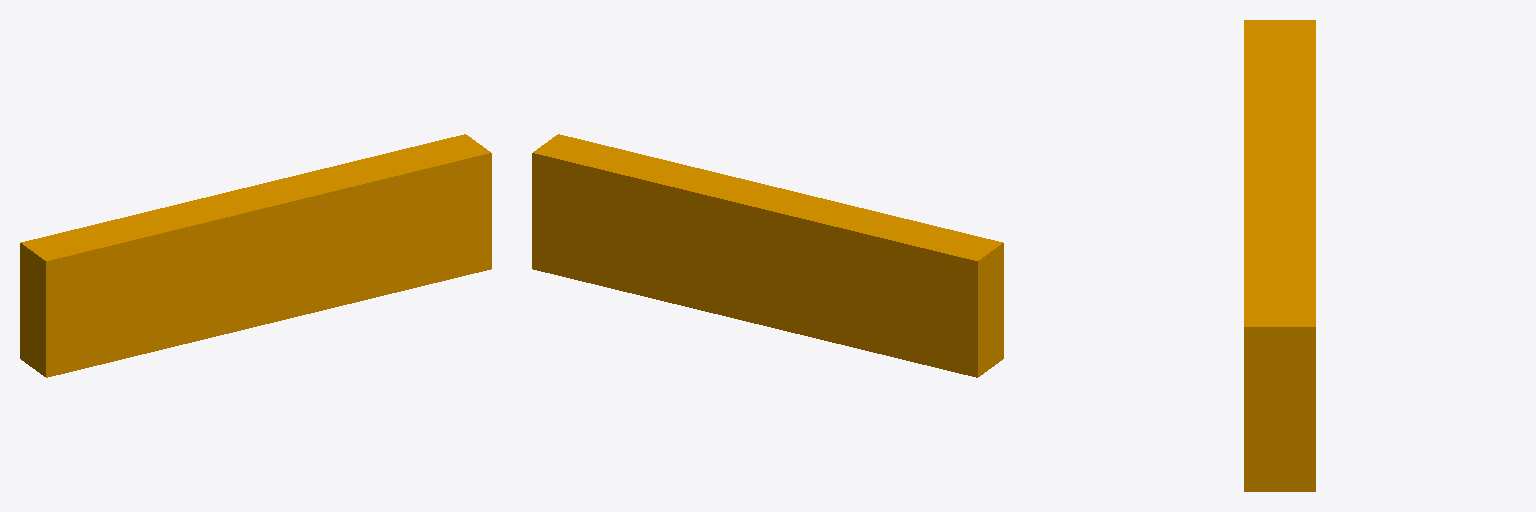
URDF robot description (simple_box):
 <robot name="simple_box">
  <link name="my_box">
    <inertial>
      <origin xyz="0 0 0" />
      <mass value="1.0" />
      <inertia  ixx="1.0" ixy="0.0"  ixz="0.0"  iyy="100.0"  iyz="0.0"  izz="1.0" />
    </inertial>
    <visual>
      <origin xyz="0 0 0"/>
      <geometry>
        <box size="1.0 0.1 0.25" />
      </geometry>
    </visual>
    <collision>
      <origin xyz="0 0 0"/>
      <geometry>
        <box size="1.0 0.1 0.25" />
      </geometry>
    </collision>
  </link>
  <gazebo reference="my_box">
    <material>Gazebo/Orange</material>
  </gazebo>
  <gazebo>
    <static>true</static>
  </gazebo>
</robot>

--- Facts derived from the render (not from the file) ---
3 views of the same robot in one strip: view 1: azimuth 30°, elevation 25°; view 2: azimuth 150°, elevation 25°; view 3: azimuth 270°, elevation 25° (orthographic).
Robot: simple_box — 1 links, 0 joints (none); root link my_box; default pose: all joints at 0.
Links seen in each view (by area): view 1: my_box; view 2: my_box; view 3: my_box.
Link boxes in pixels (x1,y1,x2,y2): my_box: [20, 134, 491, 377]; my_box: [532, 134, 1003, 377]; my_box: [1244, 20, 1315, 491].
Bounding box of the posed robot: 1 × 0.1 × 0.25 m (x, y, z).
Geometry: primitives only (box / cylinder / sphere), no mesh files.
